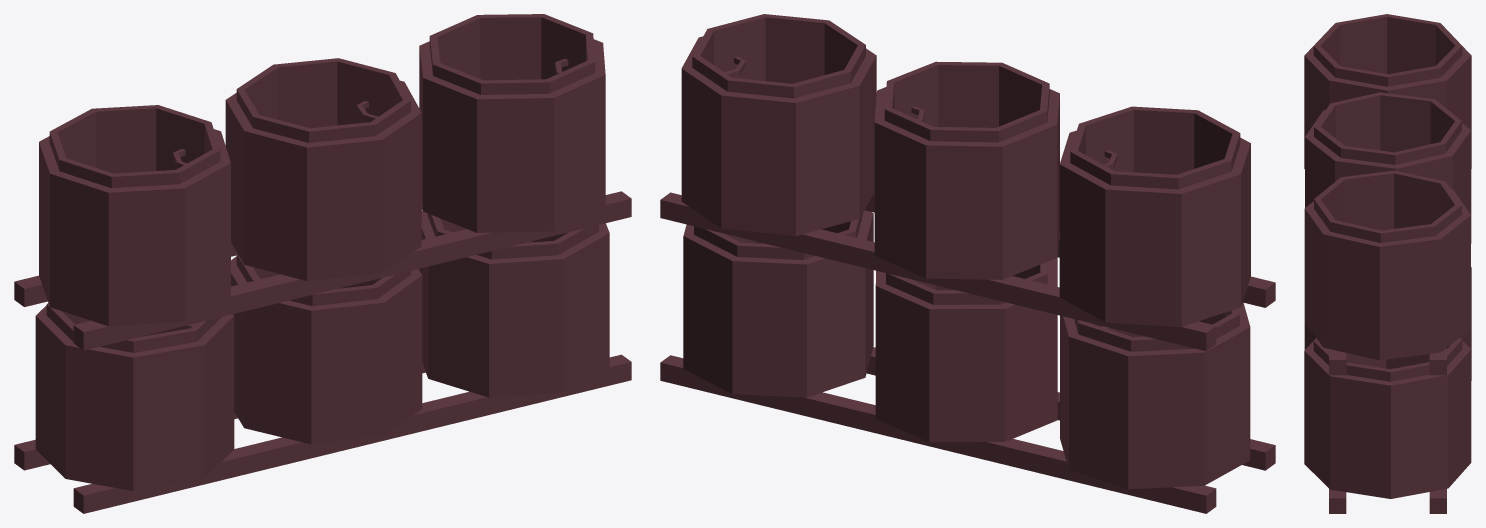
The model's file is concrete-ring-long-stack.fbx.
The picture shows the model from 3 angles, left to right: view 1: azimuth 30°, elevation 25°; view 2: azimuth 150°, elevation 25°; view 3: azimuth 270°, elevation 25°; orthographic projection. The views are drawn at different scales.
Parts seen in each view (by area): view 1: concrete-ring-long-stack; view 2: concrete-ring-long-stack; view 3: concrete-ring-long-stack.
Boxes of the visible parts, <box> form: concrete-ring-long-stack: <box>14,14,631,513</box>; concrete-ring-long-stack: <box>660,14,1275,513</box>; concrete-ring-long-stack: <box>1304,14,1471,513</box>.
Size of the model in its own units: 3.97 by 2.25 by 1.23.
